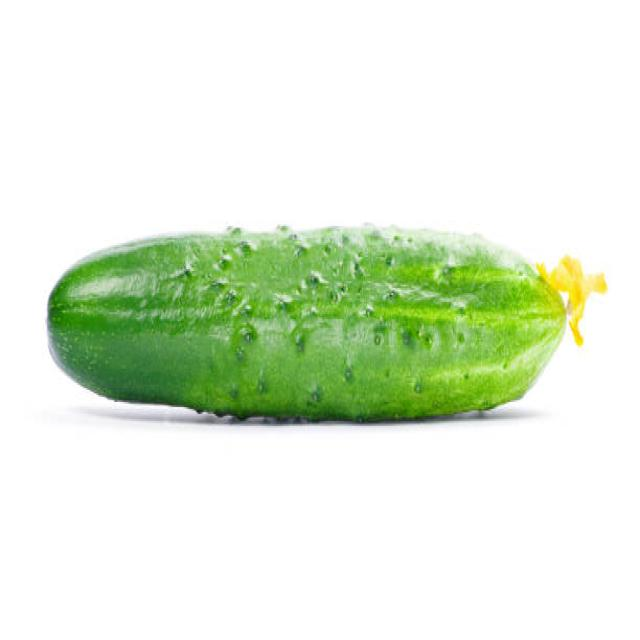cucumber: (45, 225, 569, 424)
